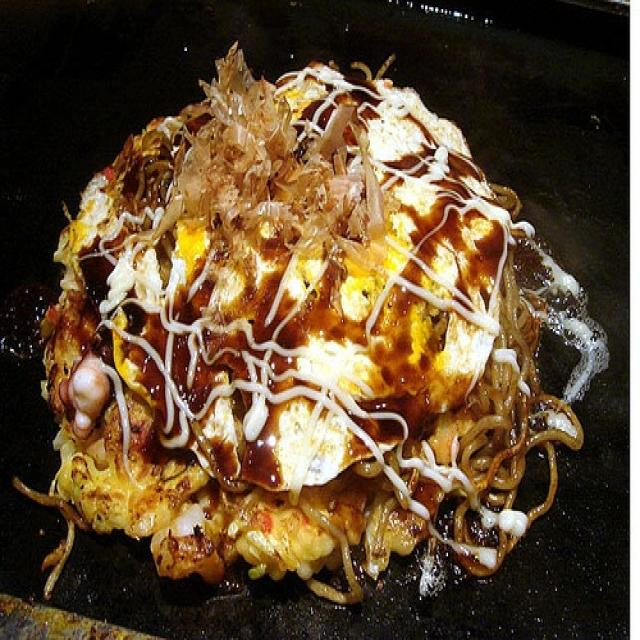蛋糕甜品: (23, 49, 604, 609)
